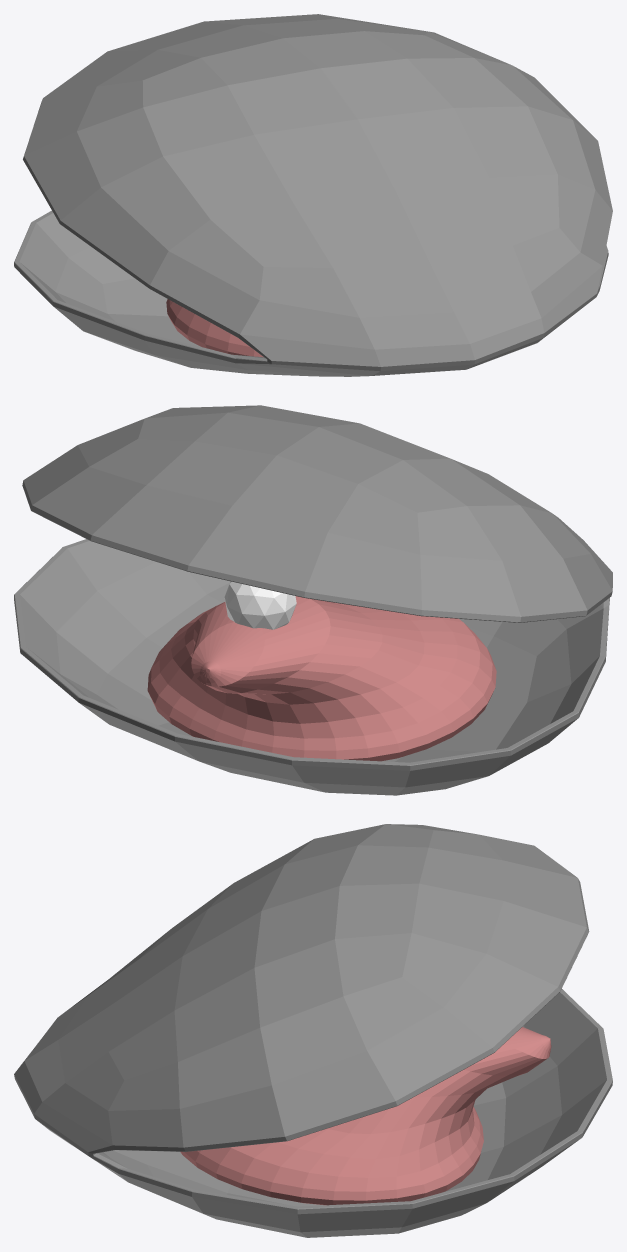
File: clam.fbx
The picture shows the model from 3 angles, top to bottom: view 1: azimuth 30°, elevation 25°; view 2: azimuth 150°, elevation 25°; view 3: azimuth 270°, elevation 25°; orthographic projection. The views are drawn at different scales.
Visible parts, largest first — view 1: Cube; view 2: Cube; view 3: Cube.
Part boxes in pixels (left/top/right/bottom): Cube: left=14, top=14, right=612, bottom=376; Cube: left=14, top=405, right=612, bottom=795; Cube: left=14, top=824, right=612, bottom=1237.
Bounding box in the file's own units: 149 × 79.05 × 146.
